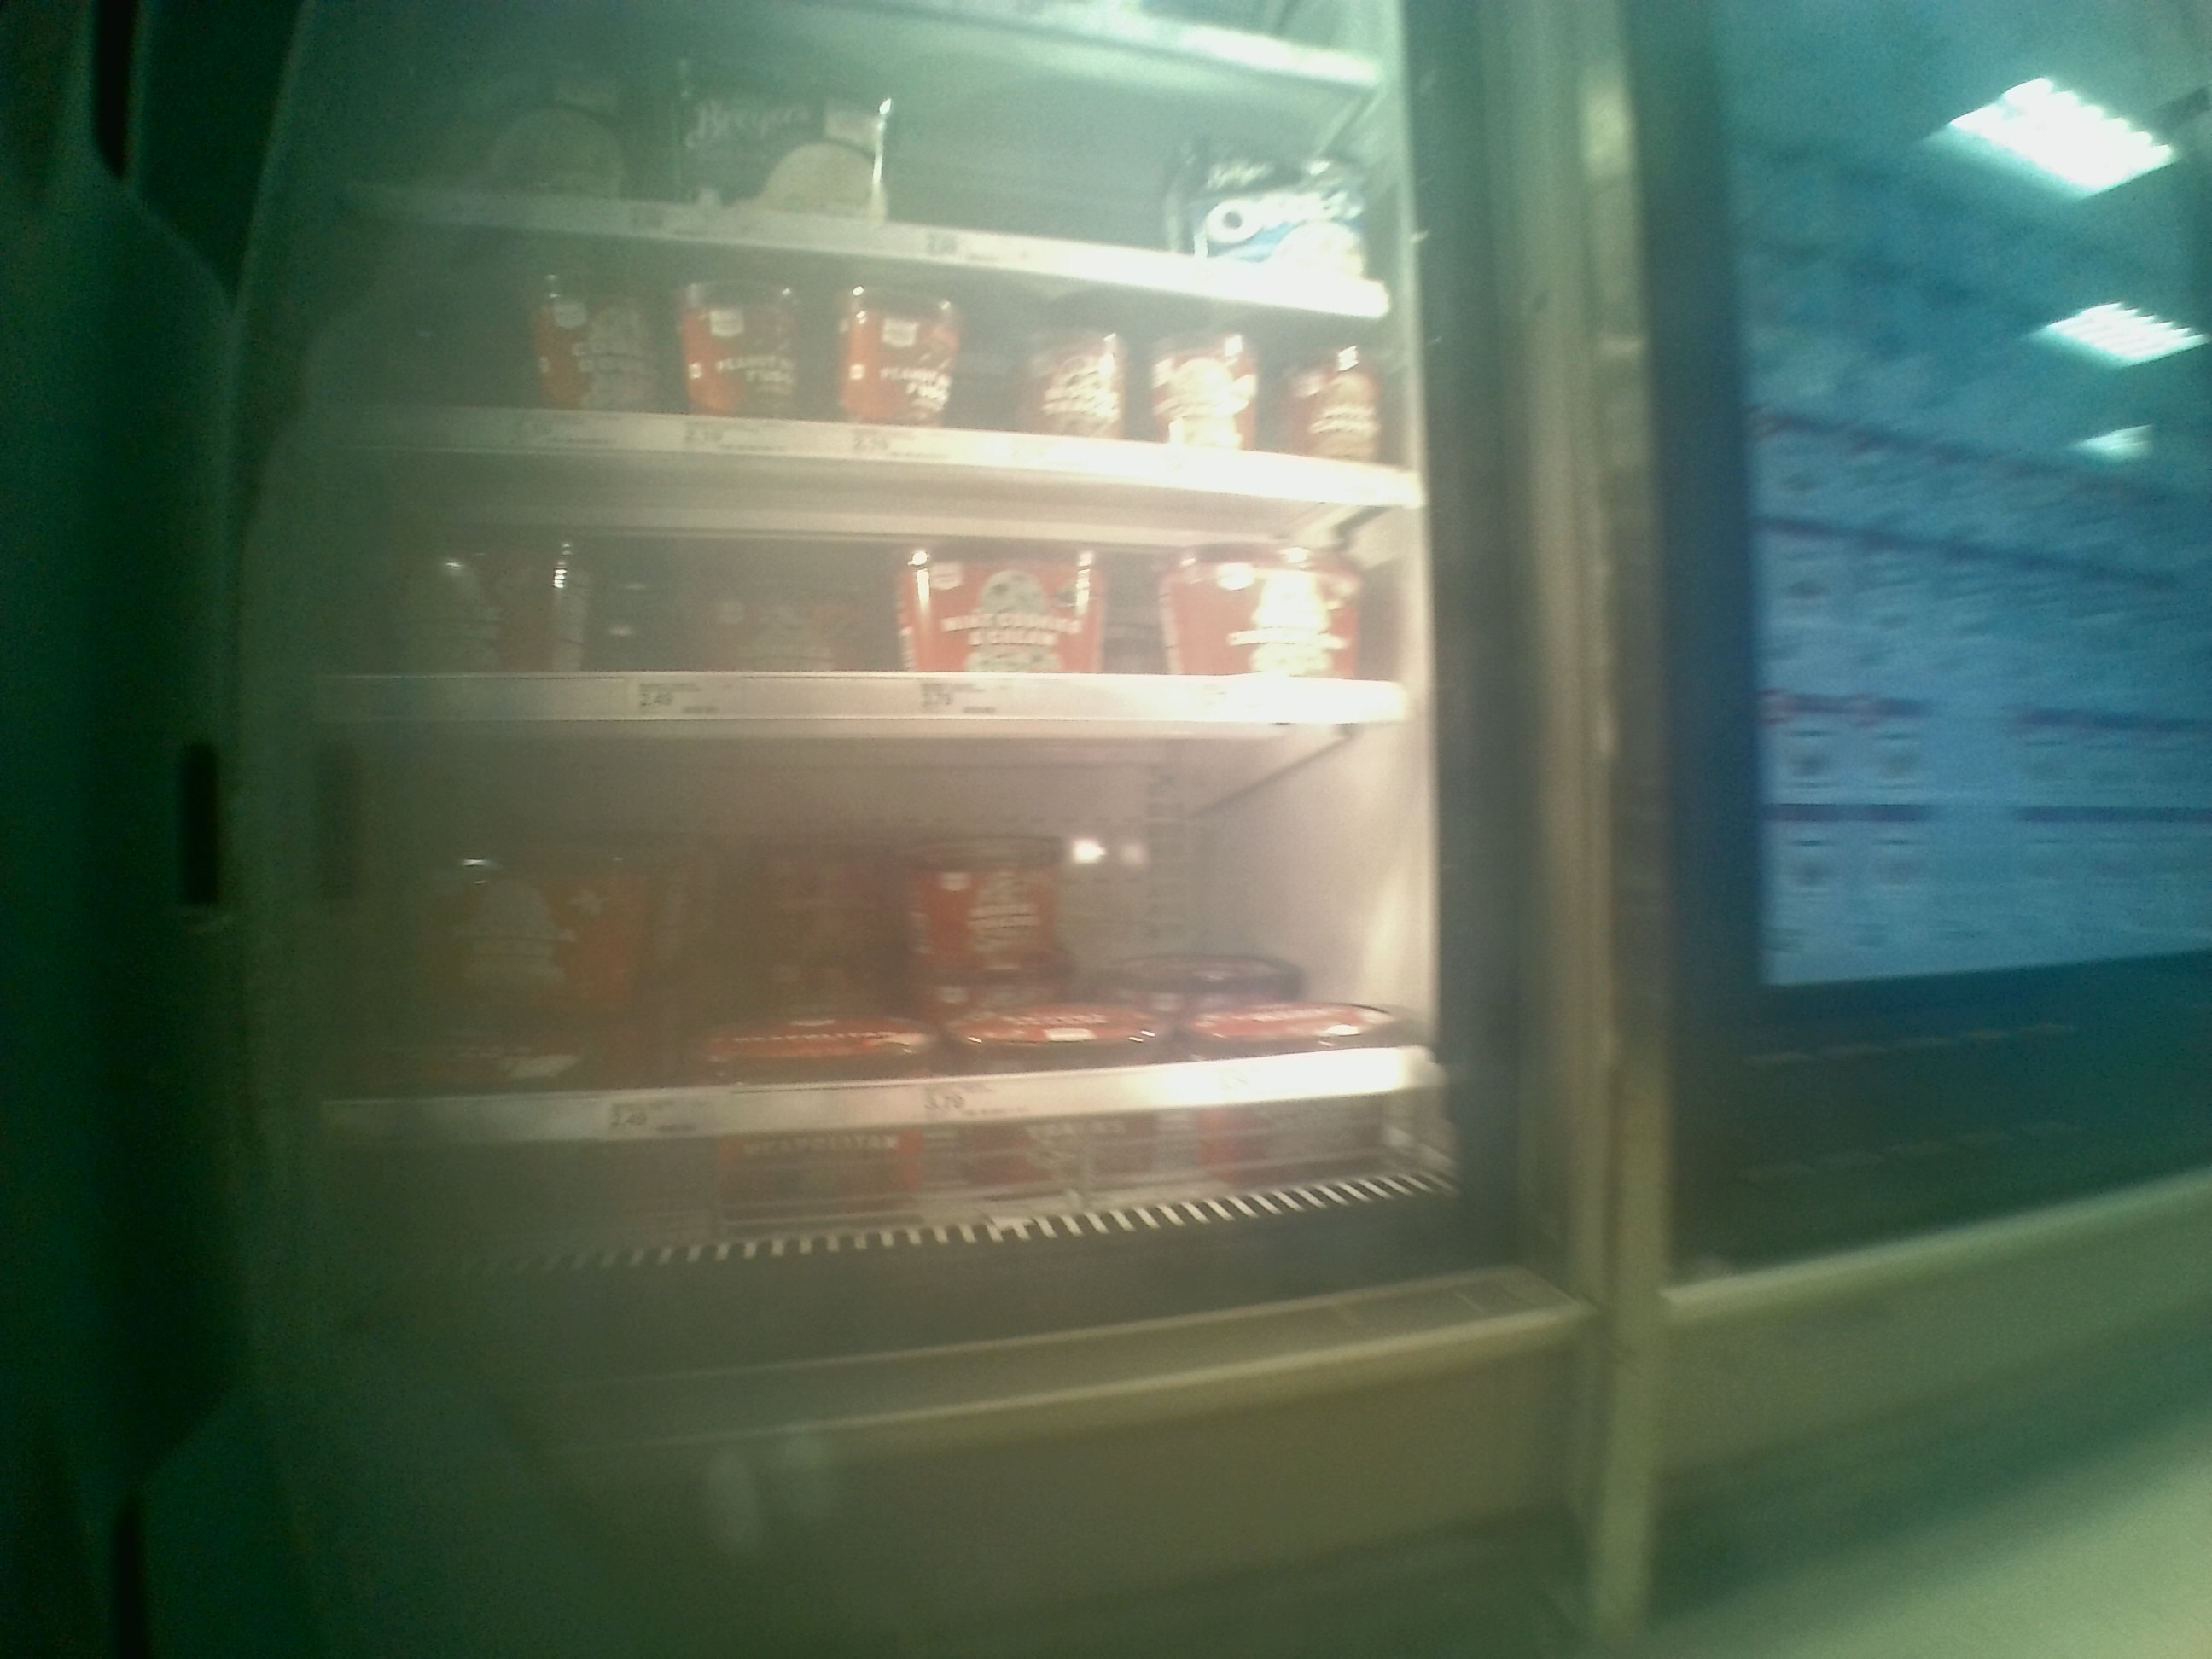shelf: (331, 723, 1447, 1141), (279, 469, 1404, 730)
